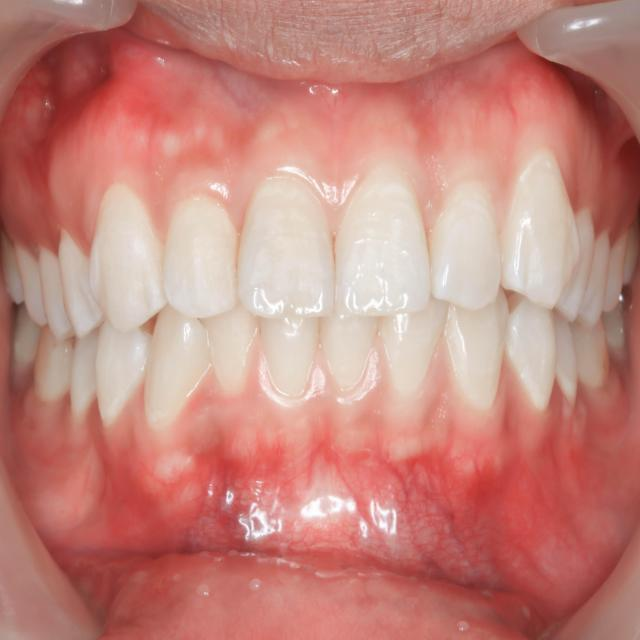tooth: (333, 161, 431, 316), (238, 173, 335, 320), (500, 146, 581, 309), (89, 183, 169, 332), (161, 194, 241, 319), (426, 178, 501, 311), (443, 285, 509, 411), (144, 303, 209, 424), (379, 292, 448, 395), (94, 319, 156, 425), (504, 292, 557, 411), (199, 300, 260, 391), (58, 227, 106, 337), (552, 207, 595, 322), (259, 317, 320, 395), (319, 311, 378, 388), (576, 228, 610, 331), (39, 244, 75, 340), (34, 324, 74, 402), (568, 316, 611, 388), (14, 240, 47, 326), (552, 309, 578, 411), (70, 328, 99, 415), (602, 229, 628, 312)
